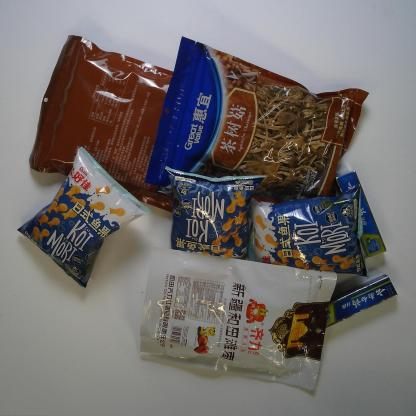Dried Food: (143, 34, 375, 223), (22, 31, 243, 224), (138, 245, 337, 394)
Personal Hygiene: (307, 272, 398, 334), (335, 168, 388, 260)
Puffed Food: (15, 146, 155, 292), (163, 162, 268, 280), (243, 189, 370, 279)
